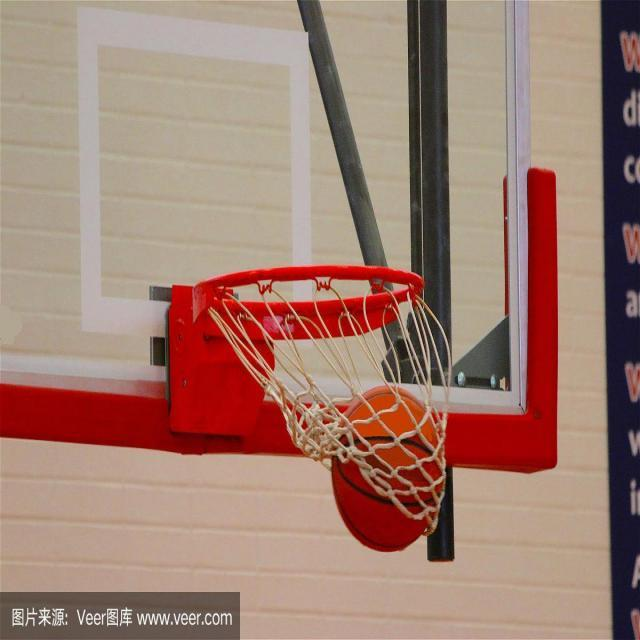rim: (333, 386, 441, 552)
